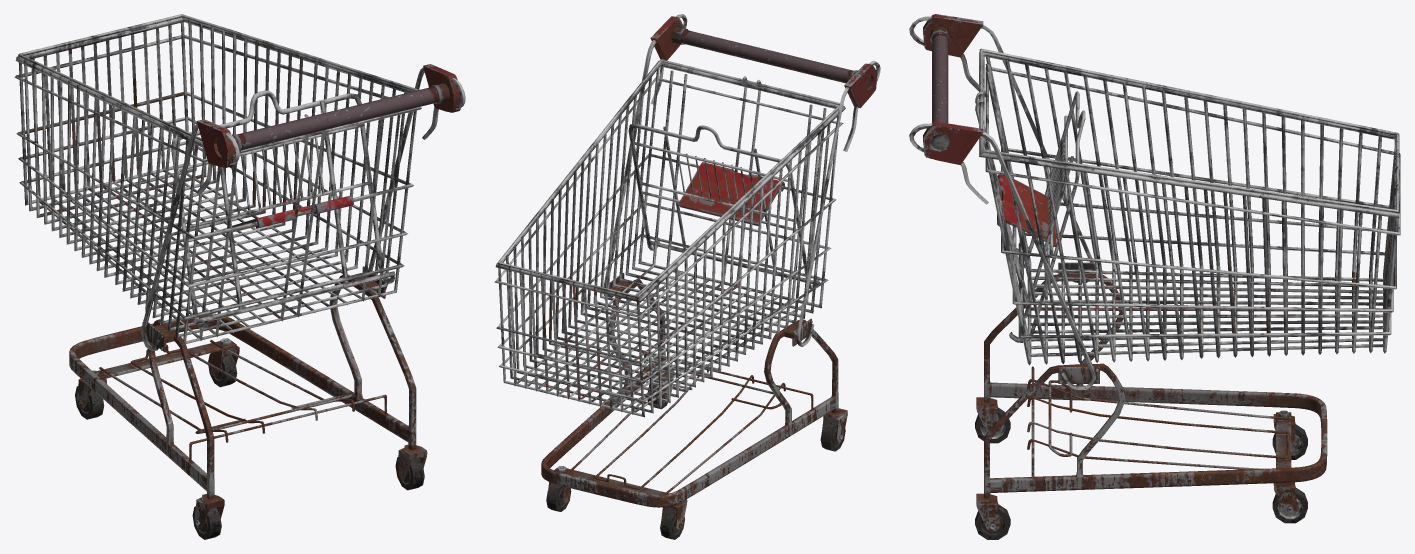
The model's file is ShoppingCart.dae.
The picture shows the model from 3 angles, left to right: view 1: azimuth 30°, elevation 25°; view 2: azimuth 150°, elevation 25°; view 3: azimuth 270°, elevation 25°; orthographic projection. The views are drawn at different scales.
Visible parts, largest first — view 1: Shopping Cart; view 2: Shopping Cart; view 3: Shopping Cart.
Boxes of the visible parts, x1,y1,x2,y2 form: Shopping Cart: [14, 14, 465, 539]; Shopping Cart: [494, 14, 880, 539]; Shopping Cart: [909, 14, 1400, 539].
Size of the model in its own units: 0.443 by 0.8276 by 0.7793.
1 material, 1 textured.
